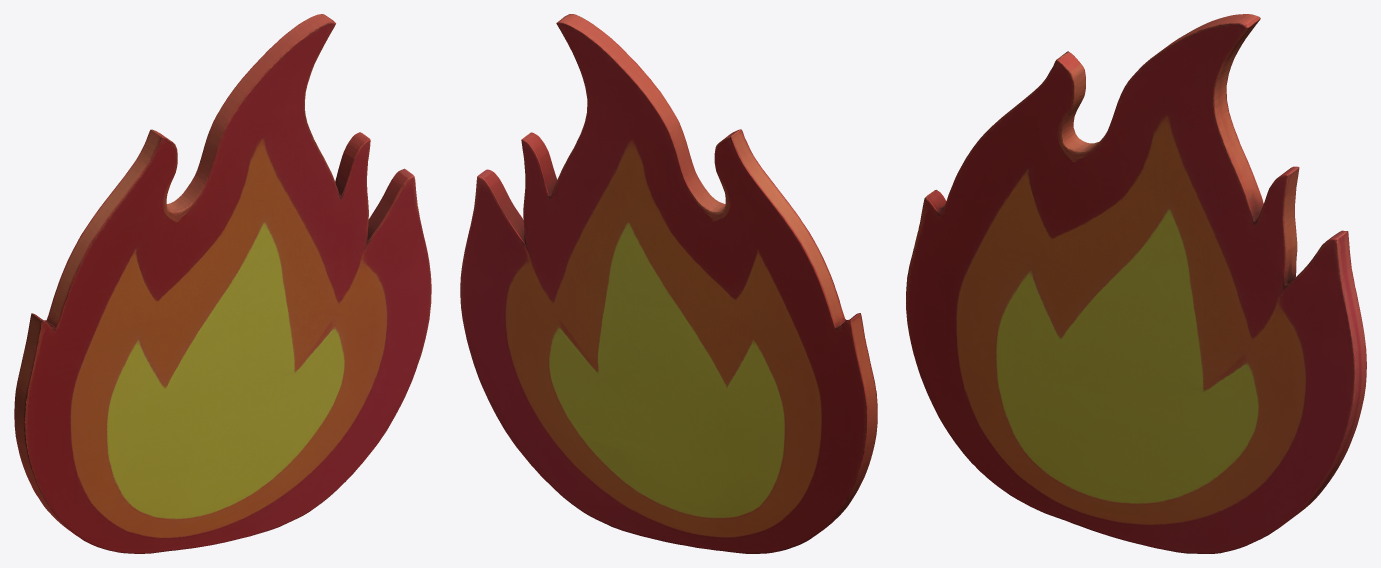
File: fire.glb
3 renders of one model, left to right at view 1: azimuth 30°, elevation 25°; view 2: azimuth 150°, elevation 25°; view 3: azimuth 330°, elevation 25°, orthographic. The views are drawn at different scales.
Visible parts, largest first — view 1: geometry_0; view 2: geometry_0; view 3: geometry_0.
Boxes of the visible parts, x1,y1,x2,y2 form: geometry_0: (14, 14, 431, 553); geometry_0: (460, 14, 877, 553); geometry_0: (906, 14, 1366, 553).
Size of the model in its own units: 0.8571 by 0.9958 by 0.044.
1 material, 1 textured.
